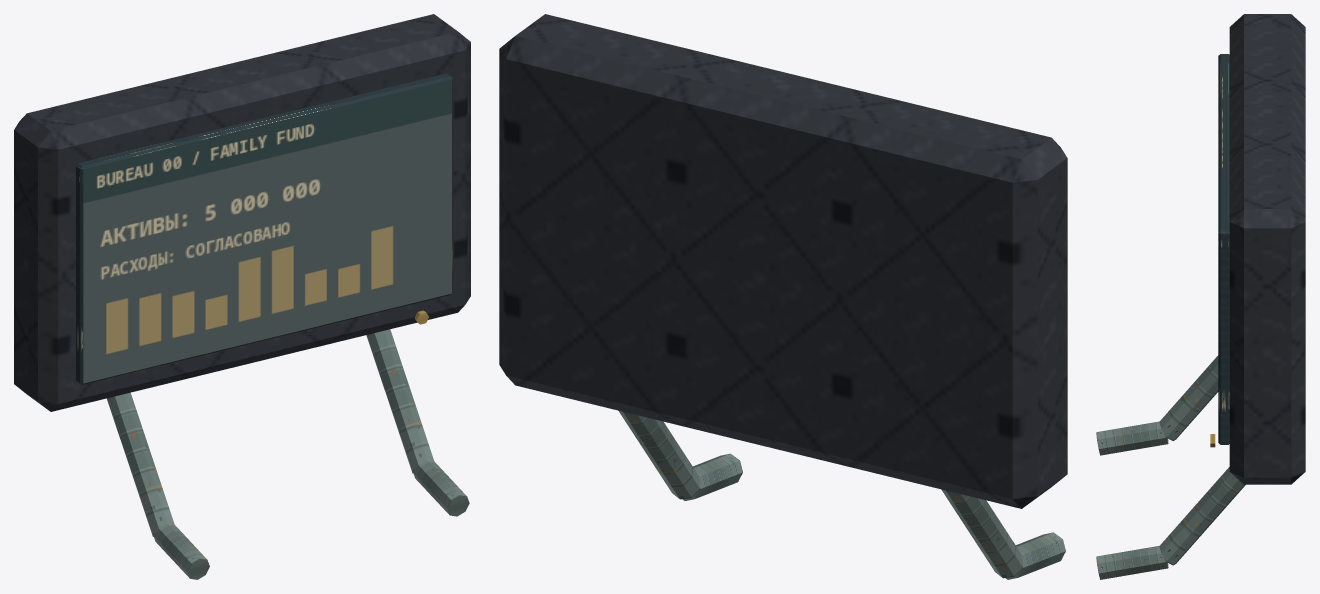
Rendered from MD_115_ComputerMonitor.fbx.
The picture shows the model from 3 angles, left to right: view 1: azimuth 30°, elevation 25°; view 2: azimuth 150°, elevation 25°; view 3: azimuth 270°, elevation 25°; orthographic projection. The views are drawn at different scales.
Parts seen in each view (by area): view 1: MD_115_ComputerMonitor_separate_display, MD_115_ComputerMonitor_screen_housing, MD_115_ComputerMonitor_screen_foot_0, MD_115_ComputerMonitor_screen_foot_0.001, MD_115_ComputerMonitor_screen_foot_1, MD_115_ComputerMonitor_screen_foot_1.001; view 2: MD_115_ComputerMonitor_screen_housing, MD_115_ComputerMonitor_screen_foot_0, MD_115_ComputerMonitor_screen_foot_0.001, MD_115_ComputerMonitor_screen_foot_1, MD_115_ComputerMonitor_screen_foot_1.001; view 3: MD_115_ComputerMonitor_screen_housing, MD_115_ComputerMonitor_separate_display, MD_115_ComputerMonitor_screen_foot_0.001, MD_115_ComputerMonitor_screen_foot_0, MD_115_ComputerMonitor_screen_foot_1, MD_115_ComputerMonitor_screen_foot_1.001.
Part boxes in pixels (<box>): MD_115_ComputerMonitor_separate_display: <box>76,73,452,384</box>; MD_115_ComputerMonitor_screen_housing: <box>14,14,470,411</box>; MD_115_ComputerMonitor_screen_foot_0: <box>106,392,174,536</box>; MD_115_ComputerMonitor_screen_foot_0.001: <box>366,329,433,473</box>; MD_115_ComputerMonitor_screen_foot_1: <box>153,524,209,579</box>; MD_115_ComputerMonitor_screen_foot_1.001: <box>413,461,469,516</box>; MD_115_ComputerMonitor_screen_housing: <box>499,14,1067,508</box>; MD_115_ComputerMonitor_screen_foot_0: <box>941,489,1022,578</box>; MD_115_ComputerMonitor_screen_foot_0.001: <box>618,410,700,499</box>; MD_115_ComputerMonitor_screen_foot_1: <box>1005,532,1065,579</box>; MD_115_ComputerMonitor_screen_foot_1.001: <box>682,453,742,500</box>; MD_115_ComputerMonitor_screen_housing: <box>1229,14,1305,484</box>; MD_115_ComputerMonitor_separate_display: <box>1218,54,1229,444</box>; MD_115_ComputerMonitor_screen_foot_0.001: <box>1159,467,1245,565</box>; MD_115_ComputerMonitor_screen_foot_0: <box>1159,355,1218,440</box>; MD_115_ComputerMonitor_screen_foot_1: <box>1096,421,1168,455</box>; MD_115_ComputerMonitor_screen_foot_1.001: <box>1096,546,1168,579</box>.
Size of the model in its own units: 0.58 by 0.5297 by 0.2478.
5 materials, 5 textured.
